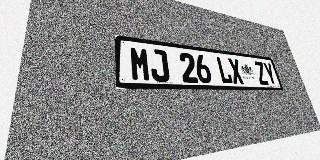2: (179, 52, 198, 83)
6: (193, 54, 213, 83)
J: (149, 48, 170, 82)
L: (215, 56, 233, 84)
M: (129, 46, 151, 82)
X: (227, 58, 245, 84)
Y: (262, 62, 278, 85)
Z: (253, 61, 269, 85)
